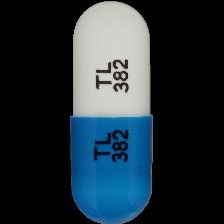69375-001: (0, 0, 224, 224)
